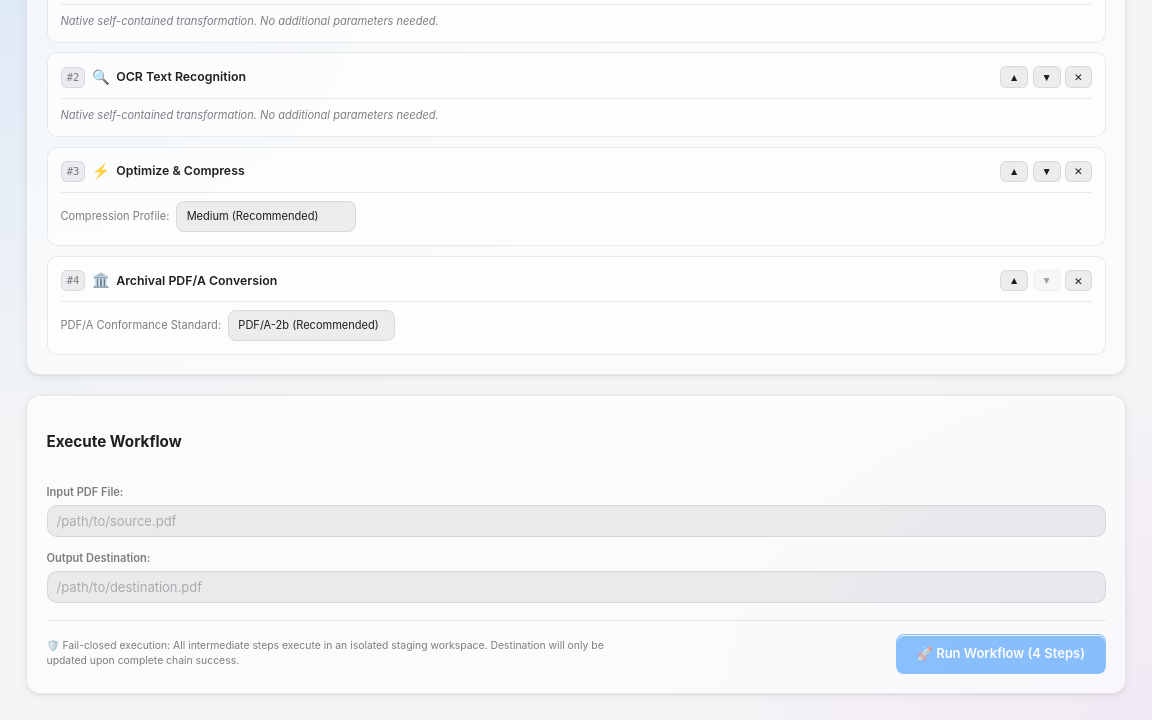
Test: PipelinesView › submits RunPipeline JobRequest with active chain and paths
This screenshot has width=1152, height=720.
Step 1. Type "/data/legal_doc.pdf" into the field with test id "input-path-field" → (576, 521), box [46,505,1106,537]
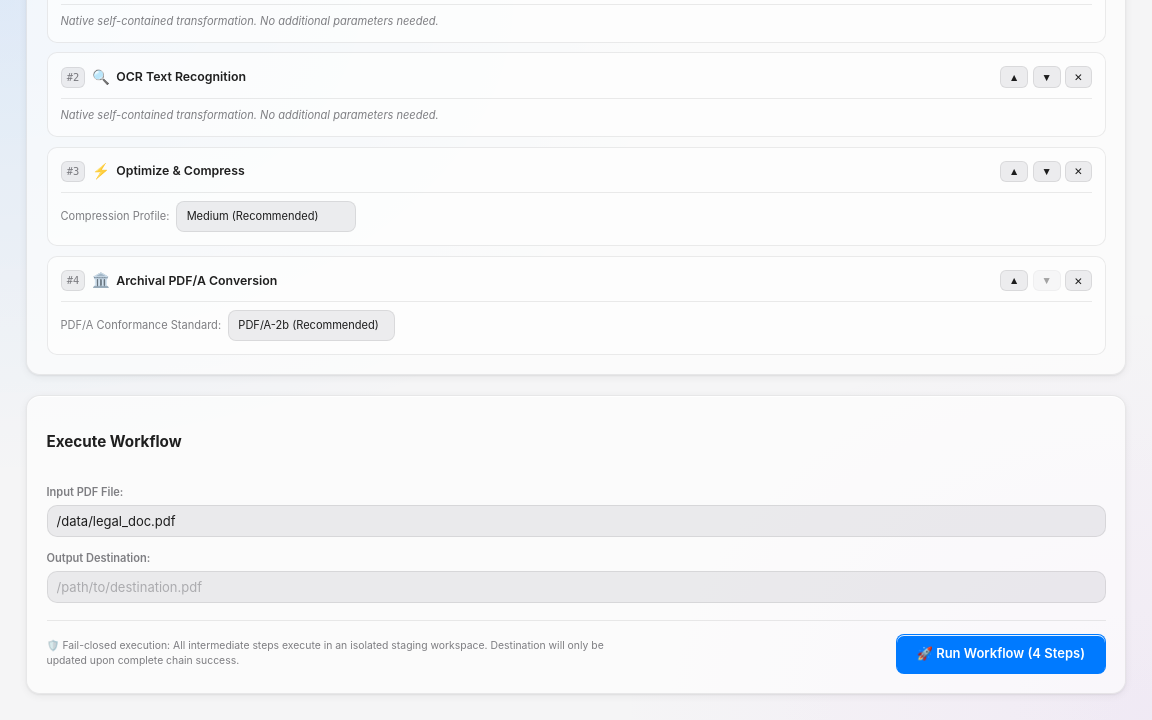
Step 2. Type "/data/legal_doc_processed.pdf" into the field with test id "output-path-field" → (576, 587), box [46,571,1106,603]
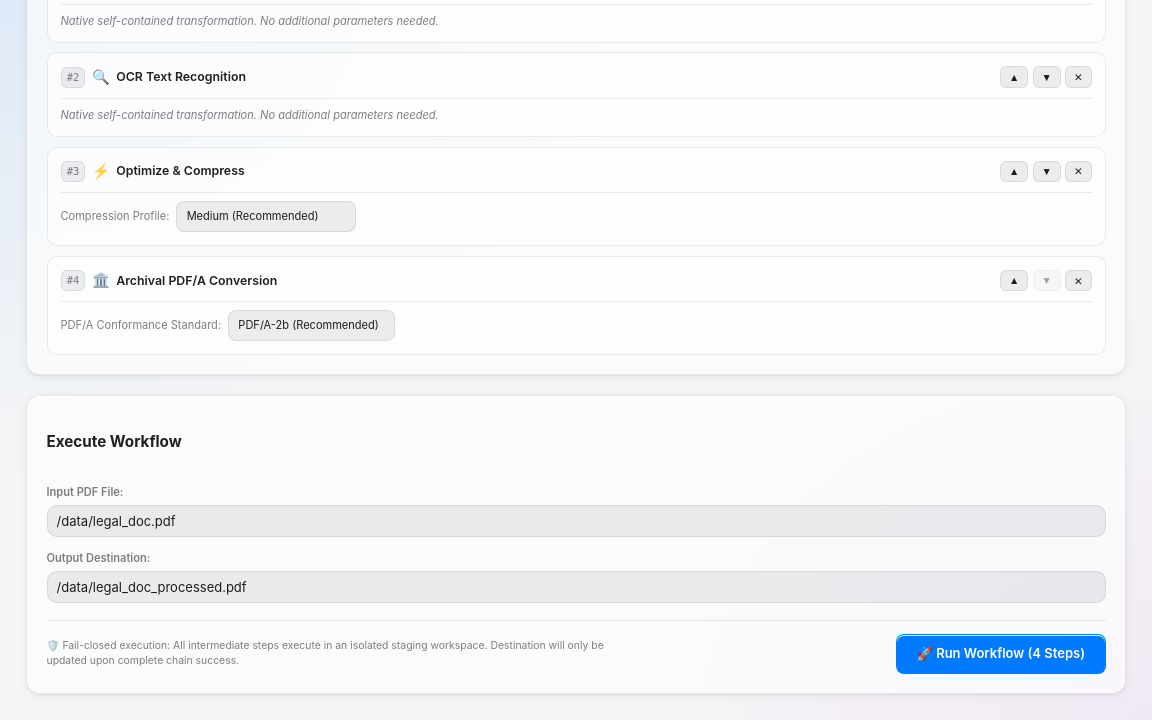
Step 3. Click the button with test id "btn-run-workflow" → (1001, 654), box [896,634,1106,674]
(page scrolled)
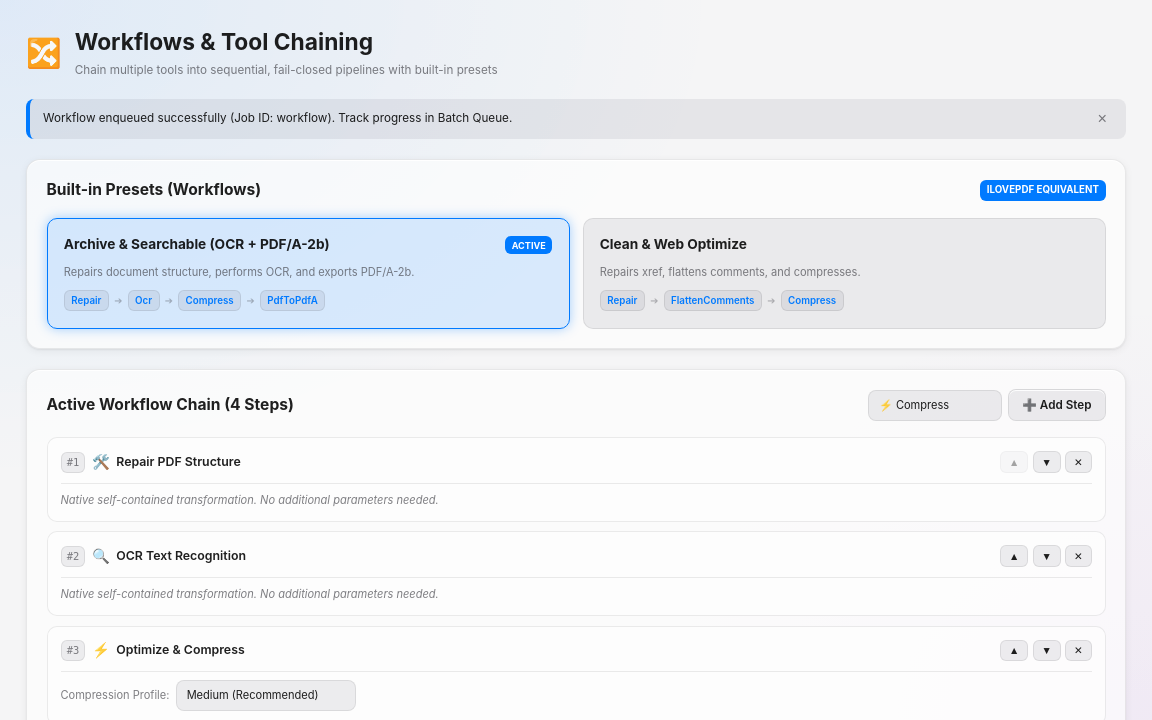
Now the text "Workflow enqueued successfully" is shown, box [43,112,512,126]
